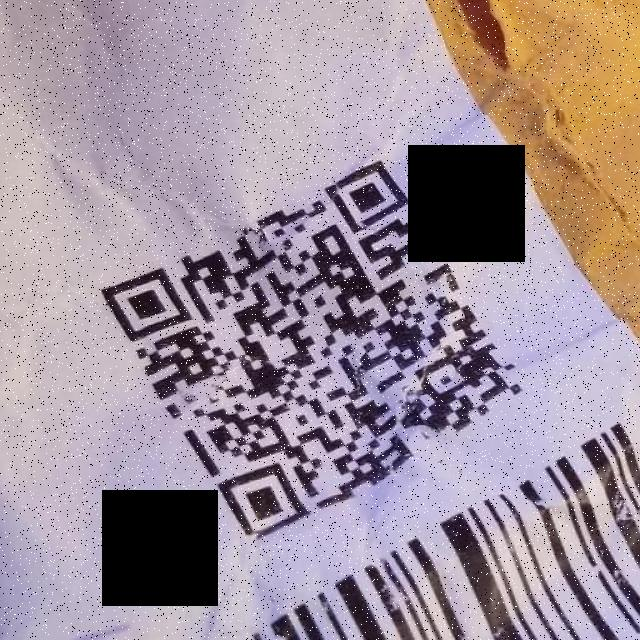QR_CODE: (94, 152, 532, 548)
